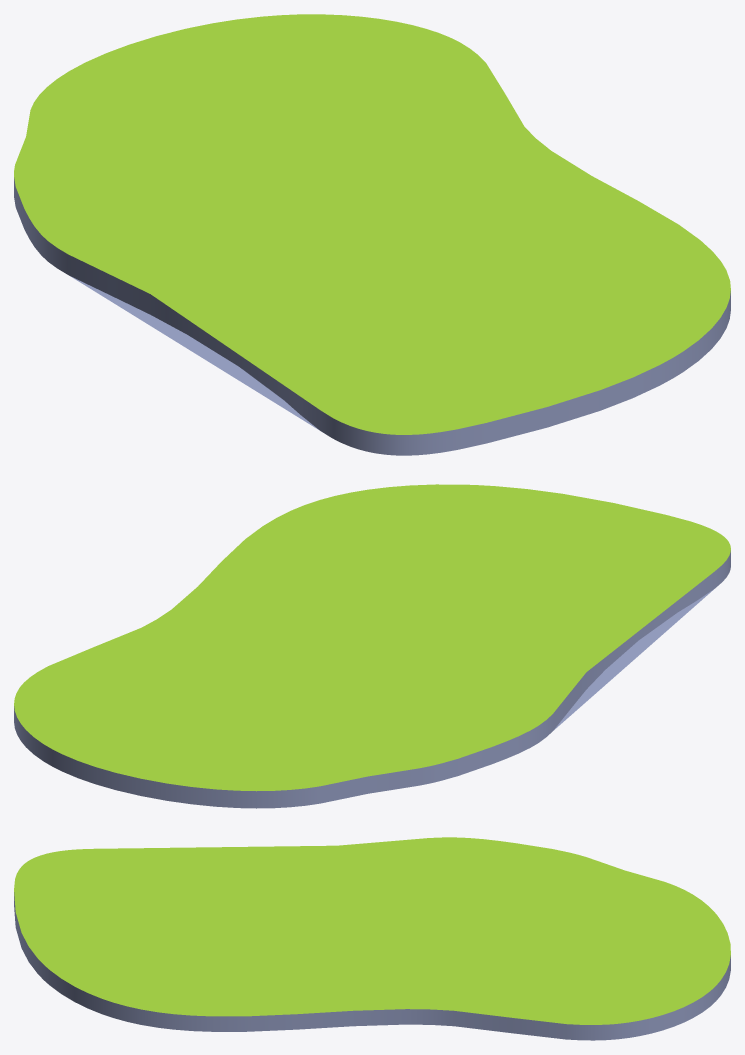
3 views of the same model, one above another, from view 1: azimuth 30°, elevation 25°; view 2: azimuth 150°, elevation 25°; view 3: azimuth 270°, elevation 25° (orthographic). The views are drawn at different scales.
Visible parts, largest first — view 1: Extrude_1; view 2: Extrude_1; view 3: Extrude_1.
Part boxes in pixels (bbox=[...]): Extrude_1: bbox=[14, 14, 730, 455]; Extrude_1: bbox=[14, 484, 730, 808]; Extrude_1: bbox=[14, 837, 730, 1040].
Size of the model in its own units: 781 by 30 by 1261.
